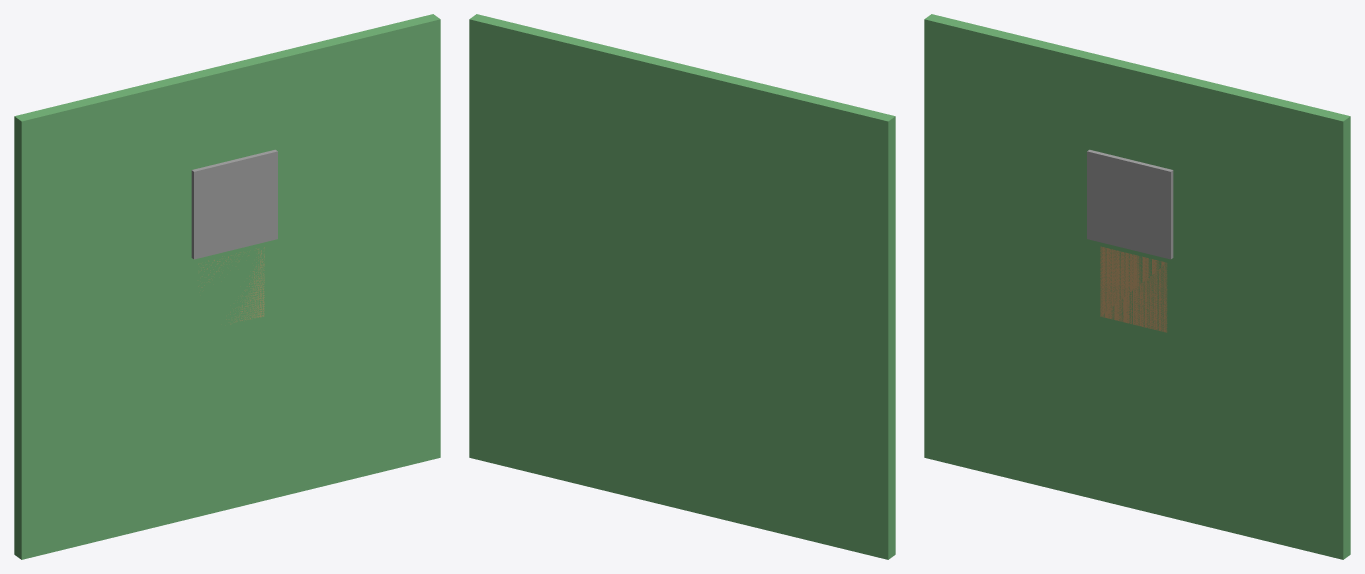
Rendered from board.glb.
3 renders of one model, left to right at view 1: azimuth 30°, elevation 25°; view 2: azimuth 150°, elevation 25°; view 3: azimuth 330°, elevation 25°, orthographic.
Visible parts, largest first — view 1: Substrate_Layer_0, Component_PAD1, Substrate_Layer_1; view 2: Substrate_Layer_0; view 3: Substrate_Layer_0, Component_PAD1, Substrate_Layer_1.
Boxes of the visible parts, bbox=[...] form: Substrate_Layer_0: bbox=[14, 14, 440, 559]; Component_PAD1: bbox=[191, 149, 277, 259]; Substrate_Layer_1: bbox=[198, 247, 264, 324]; Substrate_Layer_0: bbox=[469, 14, 895, 559]; Substrate_Layer_0: bbox=[924, 14, 1350, 559]; Component_PAD1: bbox=[1087, 149, 1173, 259]; Substrate_Layer_1: bbox=[1100, 246, 1167, 332].
Size of the model in its own units: 0.01 by 0.01 by 0.0005.
